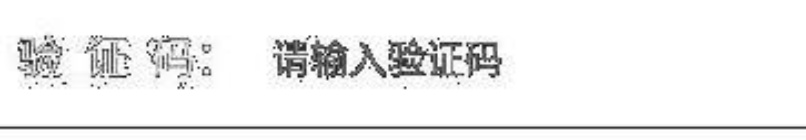EditText: (1, 1, 805, 139)
